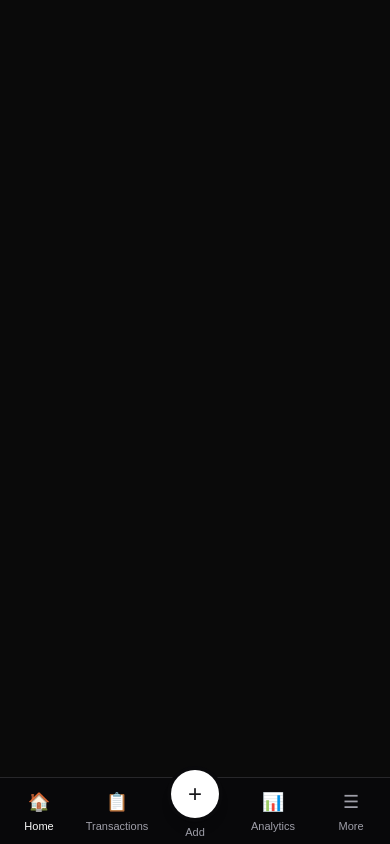
MobileBottomNav › tapping Add opens the Add Expense sheet as a dialog, not a navigation
Click the button with aria-label "add expense". click: (195, 811)
box: [156,778,234,843]
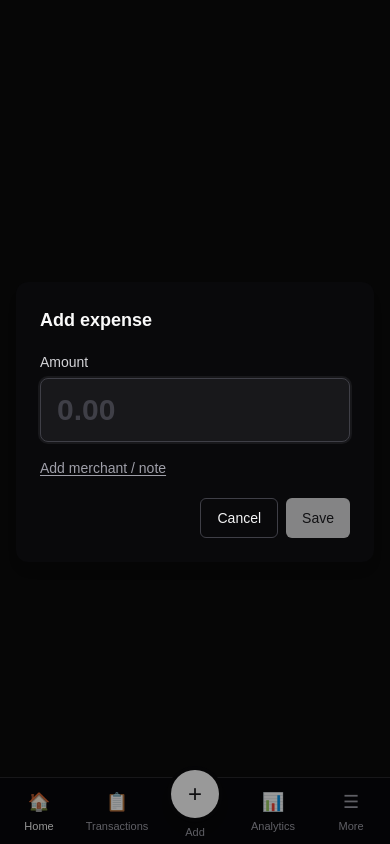
Check: the dialog "Add expense Amount Add merchant / note Cancel Save" is shown, box [16,282,374,562]
